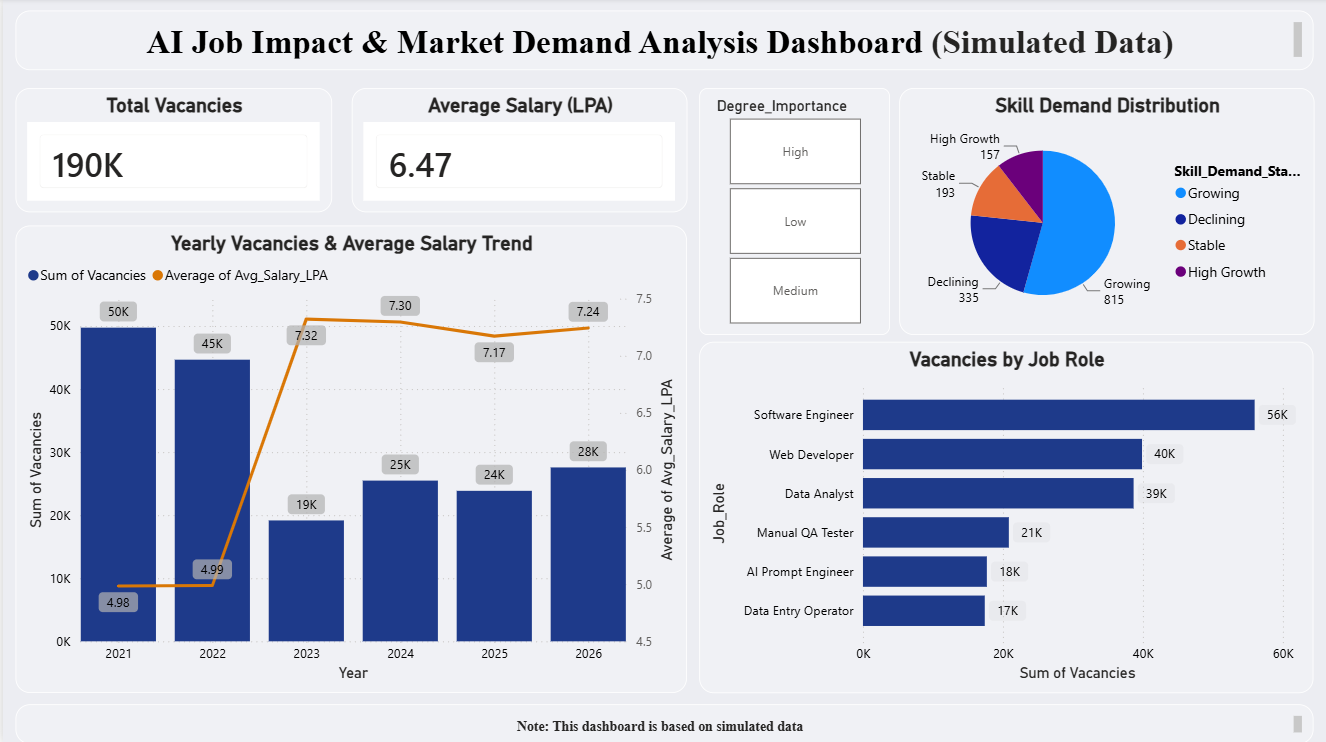

Layout of this report page (visuals, bound fields, positions):
{"tool":"powerbi","page":{"name":"Page 1","canvas":[1280,720],"ordinal":0},"visuals":[{"type":"textbox","box":[12.3,681.3,1252.9,38.4],"z":0},{"type":"cardVisual","title":"Total Vacancies","fields":{"Data":["Sum(ai_job_impact.Vacancies)"]},"box":[12.3,86.4,305.4,119.6],"z":1000},{"type":"cardVisual","title":"Average Salary (LPA)","fields":{"Data":["Avg(ai_job_impact.Avg_Salary_LPA)"]},"box":[336.2,86.4,323.9,119.6],"z":2000},{"type":"lineStackedColumnComboChart","title":"Yearly Vacancies & Average Salary Trend","fields":{"Category":["ai_job_impact.Year"],"Y":["Sum(ai_job_impact.Vacancies)"],"Y2":["Avg(ai_job_impact.Avg_Salary_LPA)"]},"box":[12.3,219.6,647.7,451.5],"z":3000},{"type":"pieChart","title":"Skill Demand Distribution","fields":{"Category":["ai_job_impact.Skill_Demand_Status"],"Y":["CountNonNull(ai_job_impact.Skill_Demand_Status)"]},"box":[864.5,86.4,400.7,238.3],"z":4000},{"type":"clusteredBarChart","title":"Vacancies by Job Role","fields":{"Category":["ai_job_impact.Job_Role"],"Y":["Sum(ai_job_impact.Vacancies)"]},"box":[672.4,332.1,592.8,338.9],"z":5000},{"type":"slicer","fields":{"Values":["ai_job_impact.Degree_Importance"]},"box":[672.4,86.4,183.8,238.3],"z":6000},{"type":"textbox","box":[12.3,12.3,1252.8,57.6],"z":6001}]}

Visuals, with their boxes in screenshot pixels (x1, y1, x2, y2), scaled from the page's 1280x720 canvas onto the 1326x742 screenshot:
textbox: box(13, 702, 1311, 741)
"Total Vacancies" cardVisual: box(13, 89, 329, 212)
"Average Salary (LPA)" cardVisual: box(348, 89, 684, 212)
"Yearly Vacancies & Average Salary Trend" lineStackedColumnComboChart: box(13, 226, 684, 692)
"Skill Demand Distribution" pieChart: box(896, 89, 1311, 335)
"Vacancies by Job Role" clusteredBarChart: box(697, 342, 1311, 692)
slicer - ai_job_impact.Degree_Importance: box(697, 89, 887, 335)
textbox: box(13, 13, 1311, 72)
